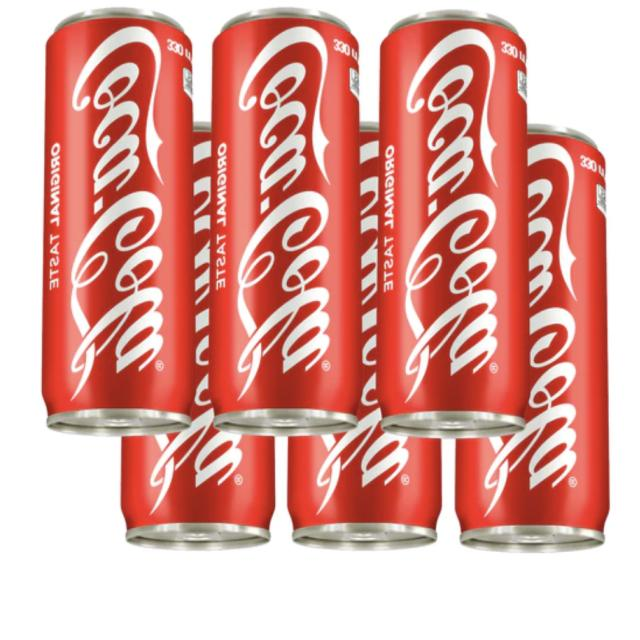can: (366, 6, 550, 463), (17, 8, 206, 452), (195, 4, 366, 458), (446, 132, 616, 580)
